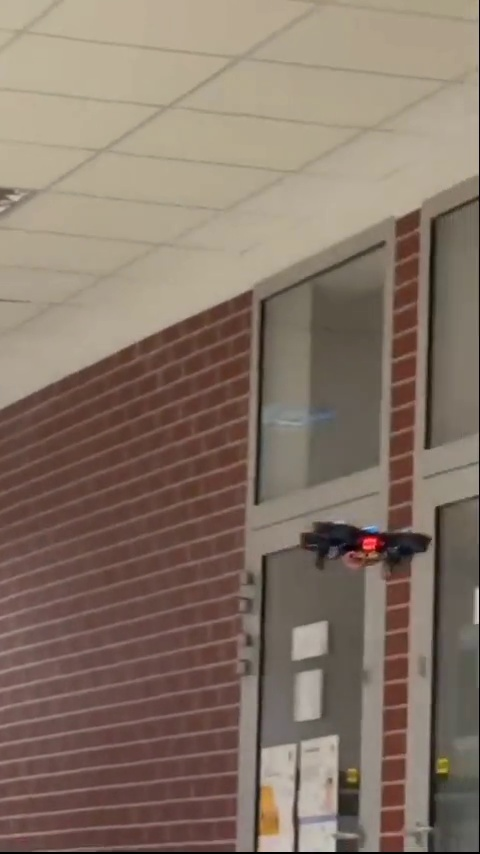drone: (304, 518, 432, 569)
